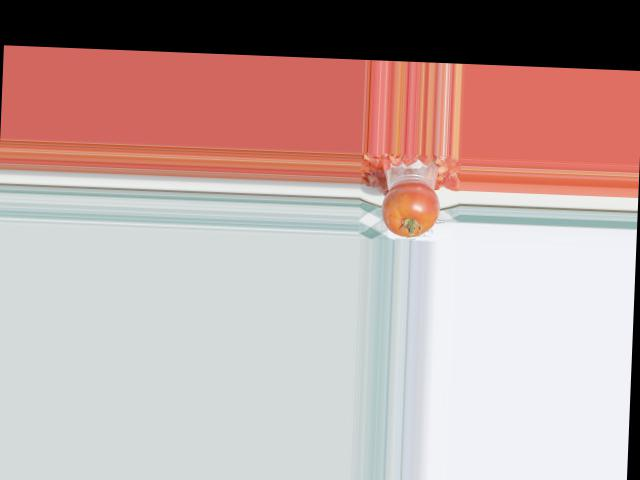tomato: (380, 180, 442, 238)
